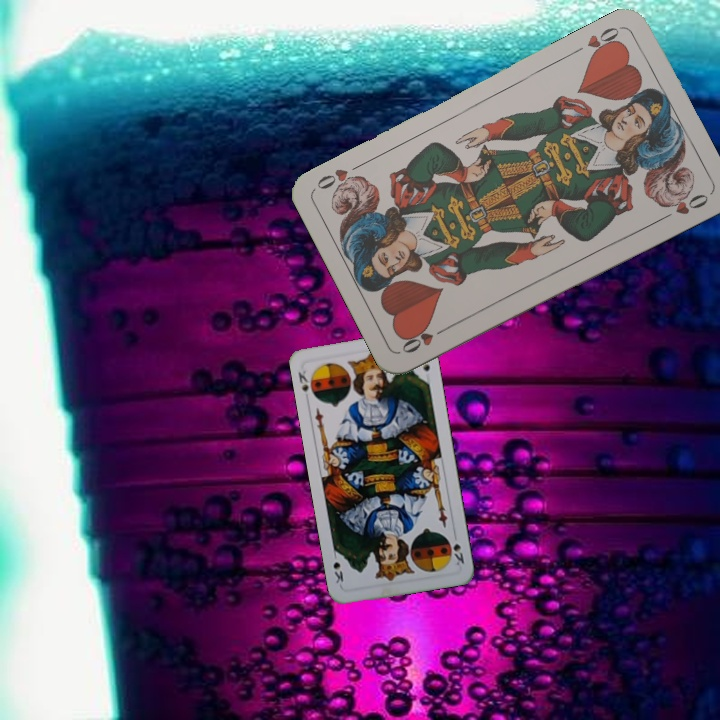HO: (398, 321, 452, 356), (583, 22, 624, 61)
SK: (449, 529, 467, 568), (294, 364, 311, 395)
